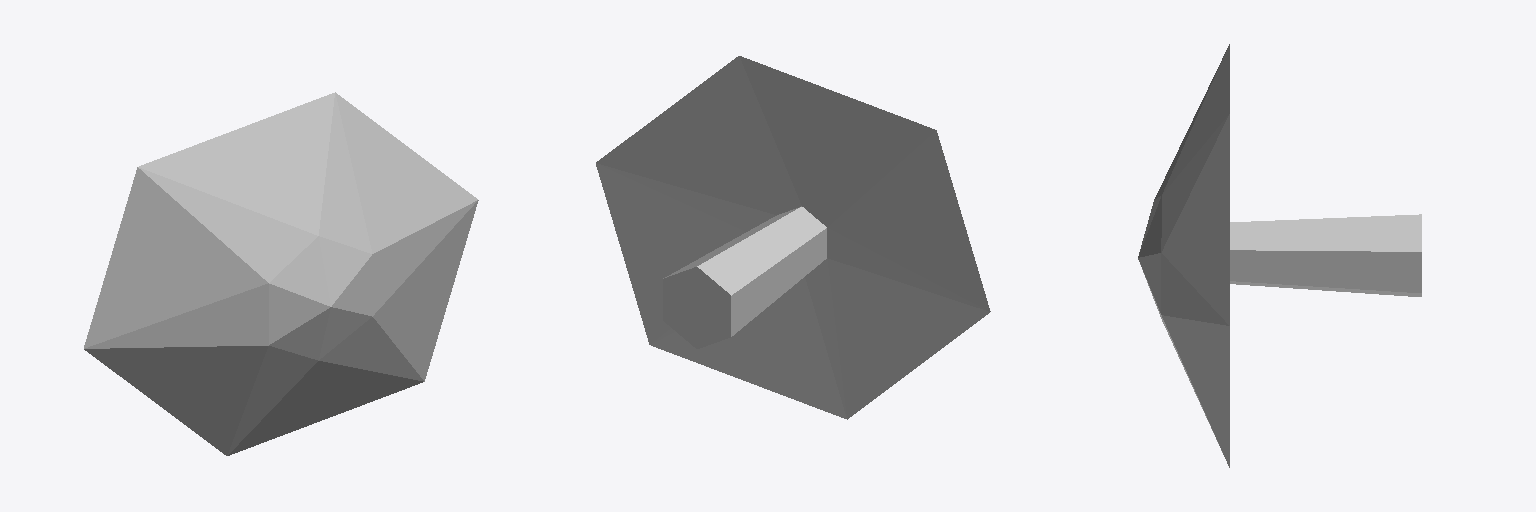
File: mushi2.obj
The picture shows the model from 3 angles: view 1: azimuth 30°, elevation 25°; view 2: azimuth 150°, elevation 25°; view 3: azimuth 270°, elevation 25°; orthographic projection.
Parts seen in each view (by area): view 1: Cylinder.001; view 2: Cylinder.001; view 3: Cylinder.001.
Boxes of the visible parts, <box> form: Cylinder.001: <box>84,92,478,455</box>; Cylinder.001: <box>596,56,990,419</box>; Cylinder.001: <box>1138,44,1421,467</box>.
Bounding box in the file's own units: 0.4342 × 0.3546 × 0.2704.